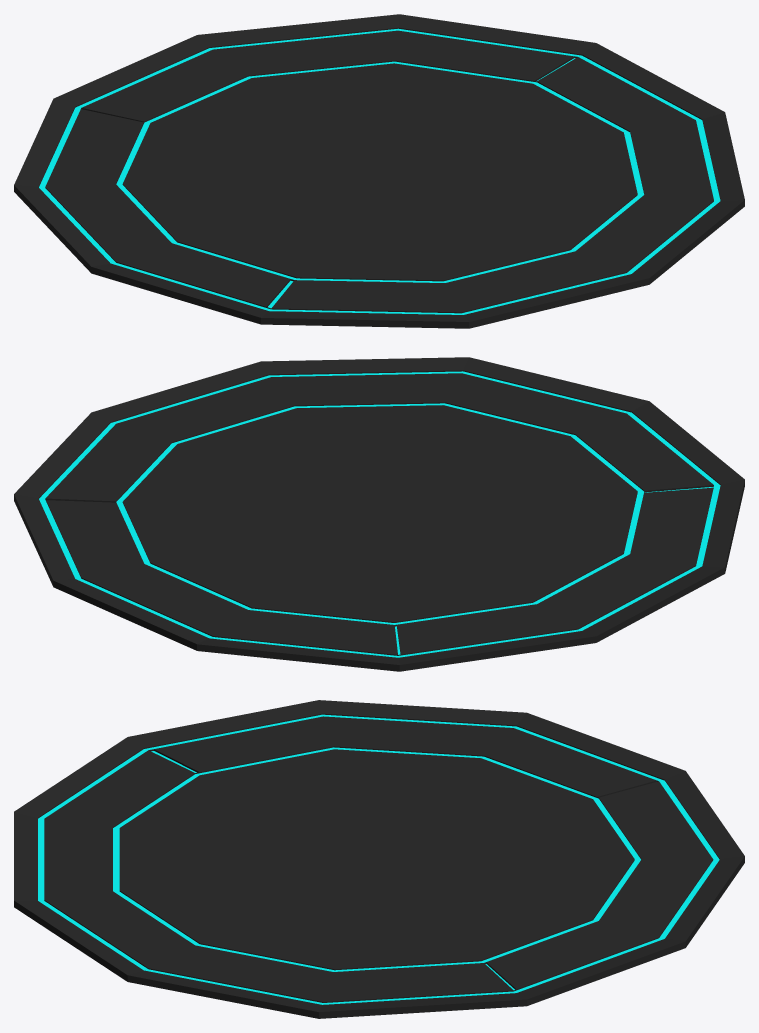
File: landing circle .fbx
The picture shows the model from 3 angles, top to bottom: view 1: azimuth 30°, elevation 25°; view 2: azimuth 150°, elevation 25°; view 3: azimuth 270°, elevation 25°; orthographic projection.
Visible parts, largest first — view 1: Cylinder; view 2: Cylinder; view 3: Cylinder.
Boxes of the visible parts, x1,y1,x2,y2 form: Cylinder: (14,14,744,328); Cylinder: (14,357,744,671); Cylinder: (14,700,744,1018).
Size of the model in its own units: 792 by 8 by 784.
